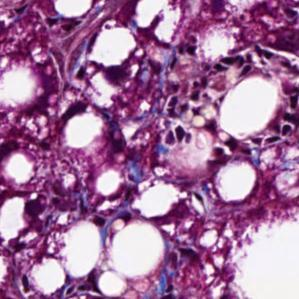inflammation: (15, 188, 98, 232), (204, 38, 277, 80), (156, 78, 219, 120), (247, 121, 299, 150)
